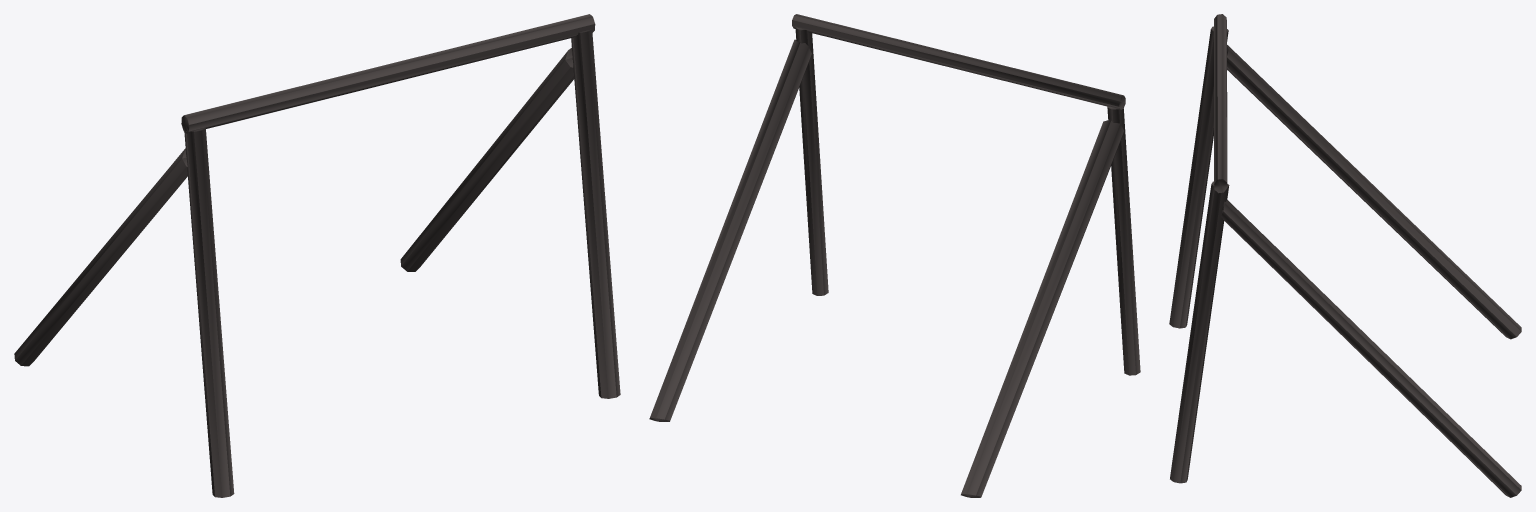
File: Fire_stand.fbx
3 renders of one model, left to right at view 1: azimuth 30°, elevation 25°; view 2: azimuth 150°, elevation 25°; view 3: azimuth 270°, elevation 25°, orthographic. The views are drawn at different scales.
Visible parts, largest first — view 1: Fire_stand; view 2: Fire_stand; view 3: Fire_stand.
Part boxes in pixels (x1,y1,x2,y2): Fire_stand: (14, 14, 620, 497); Fire_stand: (649, 14, 1140, 497); Fire_stand: (1169, 14, 1521, 497).
Size of the model in its own units: 84.34 by 74.05 by 74.04.
